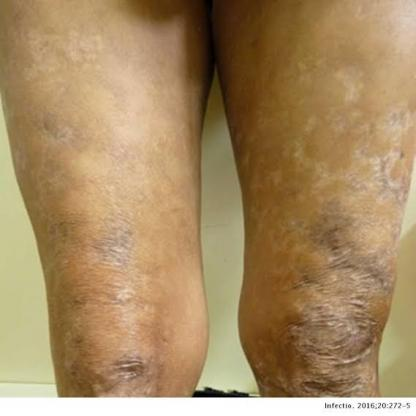Hansen-s Disease-Leprosy: (292, 198, 384, 398)
